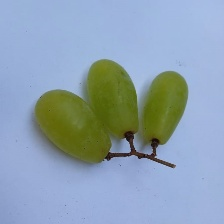grapes: (62, 10, 198, 174)
